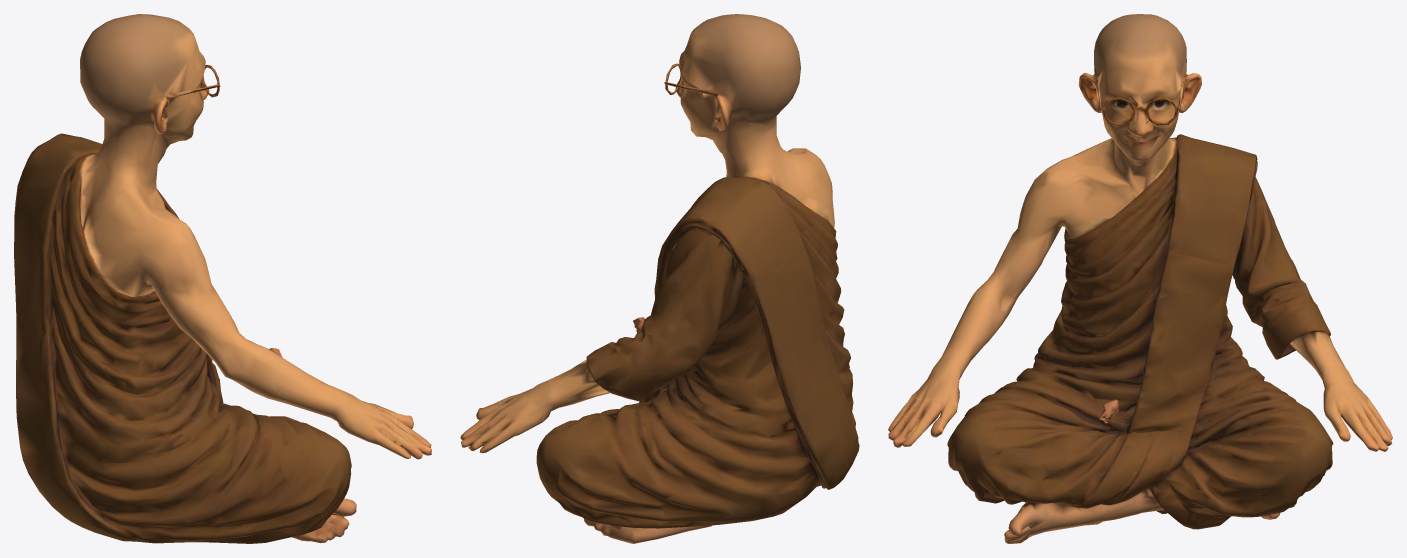
The model's file is monk-junior.glb.
The picture shows the model from 3 angles, left to right: view 1: azimuth 30°, elevation 25°; view 2: azimuth 150°, elevation 25°; view 3: azimuth 270°, elevation 25°; orthographic projection. The views are drawn at different scales.
Parts seen in each view (by area): view 1: tripo_node_abf251d7-d509-4420-8547-523511738ba9; view 2: tripo_node_abf251d7-d509-4420-8547-523511738ba9; view 3: tripo_node_abf251d7-d509-4420-8547-523511738ba9.
Boxes of the visible parts, <box> form: tripo_node_abf251d7-d509-4420-8547-523511738ba9: <box>14,14,431,543</box>; tripo_node_abf251d7-d509-4420-8547-523511738ba9: <box>460,14,859,543</box>; tripo_node_abf251d7-d509-4420-8547-523511738ba9: <box>888,14,1392,543</box>.
Size of the model in its own units: 0.5516 by 0.9995 by 0.9709.
1 material, 1 textured.
